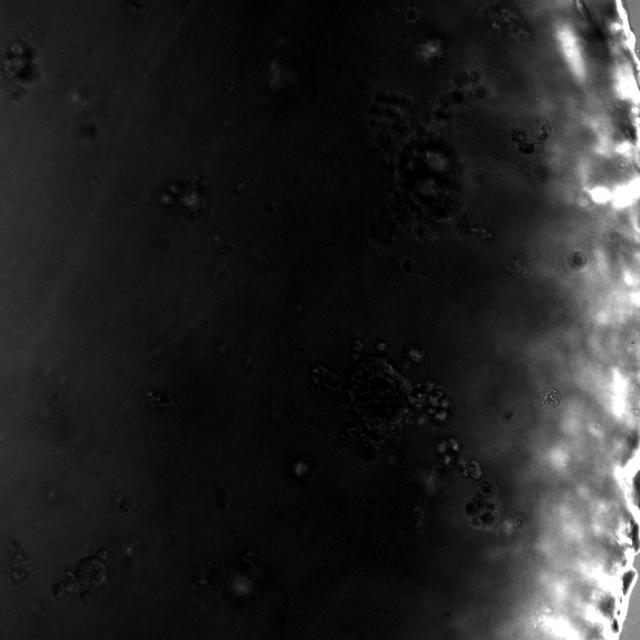organoid: (371, 66, 488, 221), (309, 341, 452, 462), (52, 549, 108, 603), (159, 174, 210, 220), (436, 436, 483, 480), (465, 477, 498, 529), (2, 39, 38, 84), (11, 539, 32, 584), (413, 37, 444, 66), (511, 127, 534, 153), (406, 344, 425, 365), (541, 388, 560, 407), (404, 8, 419, 22)
